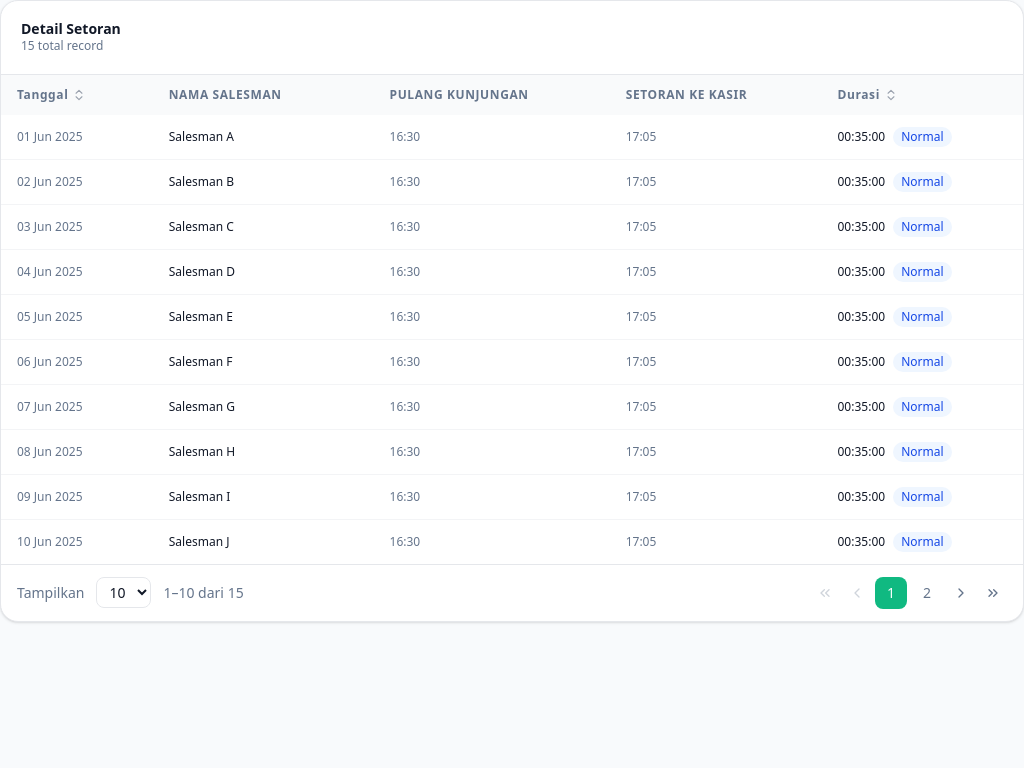
Test: Pagination › shows all records on a single page when page size > total records
This screenshot has width=1024, height=768.
Select "25" in the dropdown named "baris per halaman": (124, 593) [96, 577, 151, 608]
(page scrolled)
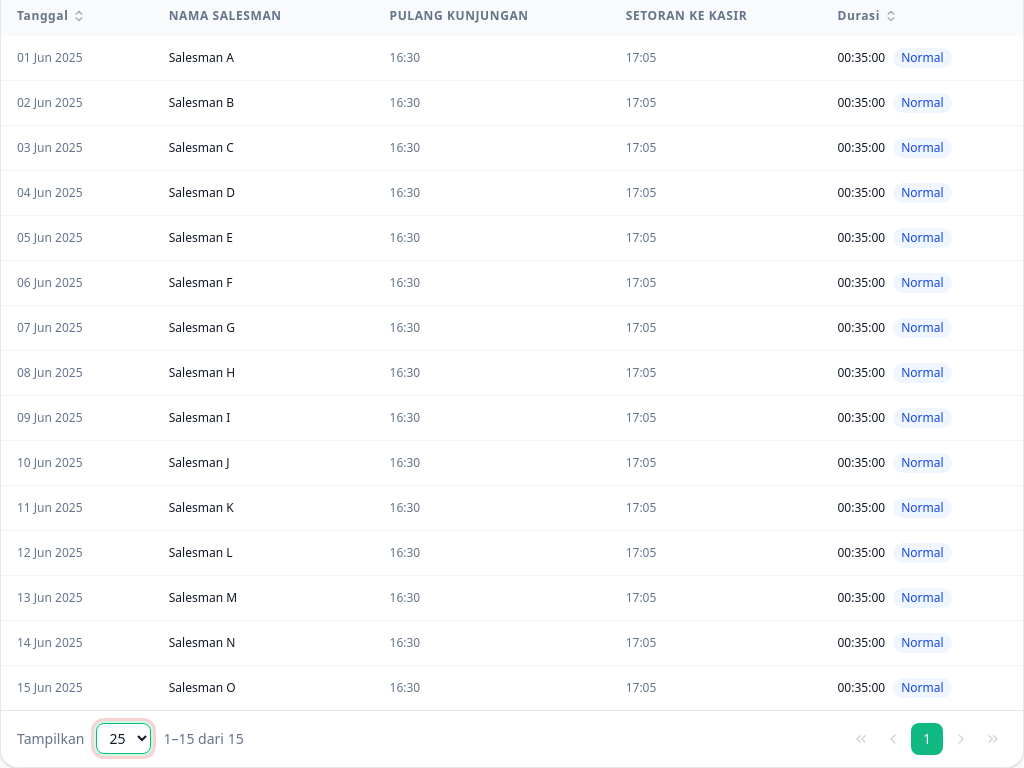
Expected: the text "1–15 dari 15" is shown, [163, 729, 244, 749]
